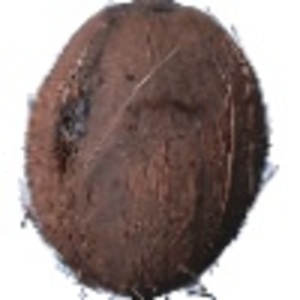coco: (19, 1, 278, 300)
